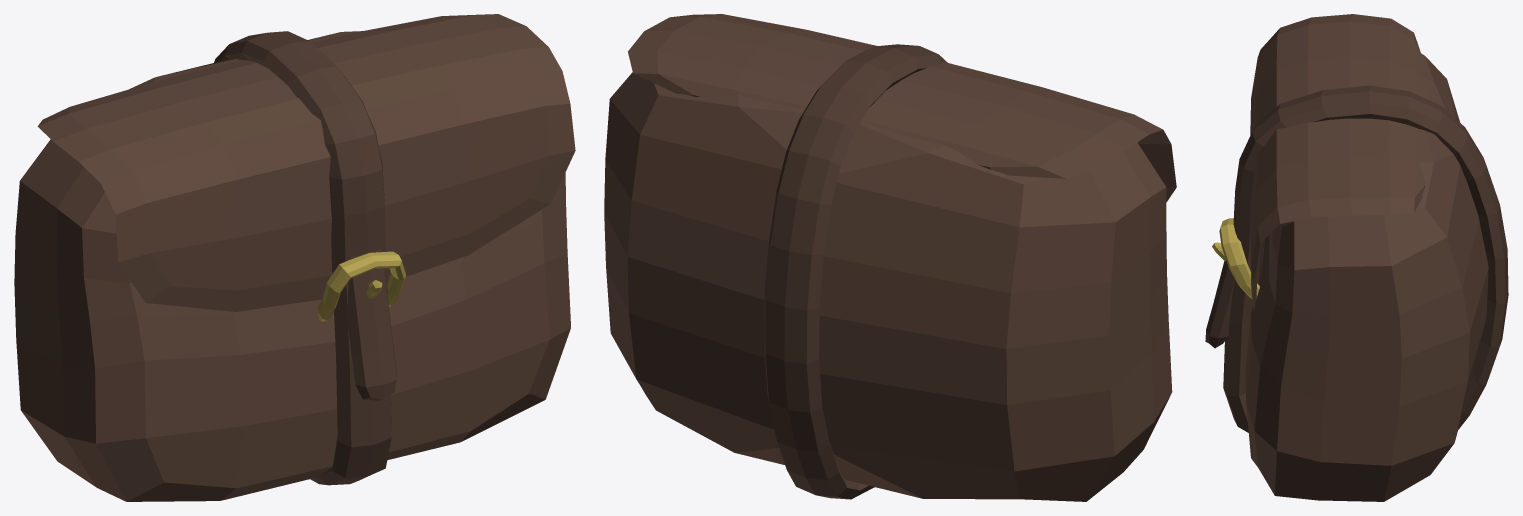
Rendered from Bag.glb.
3 renders of one model, left to right at view 1: azimuth 30°, elevation 25°; view 2: azimuth 150°, elevation 25°; view 3: azimuth 270°, elevation 25°, orthographic. The views are drawn at different scales.
Visible parts, largest first — view 1: Bag_Cube.100; view 2: Bag_Cube.100; view 3: Bag_Cube.100.
Boxes of the visible parts, bbox=[...] form: Bag_Cube.100: bbox=[14, 14, 575, 501]; Bag_Cube.100: bbox=[604, 14, 1176, 501]; Bag_Cube.100: bbox=[1205, 14, 1508, 501].
Size of the model in its own units: 0.8017 by 0.6274 by 0.4867.
